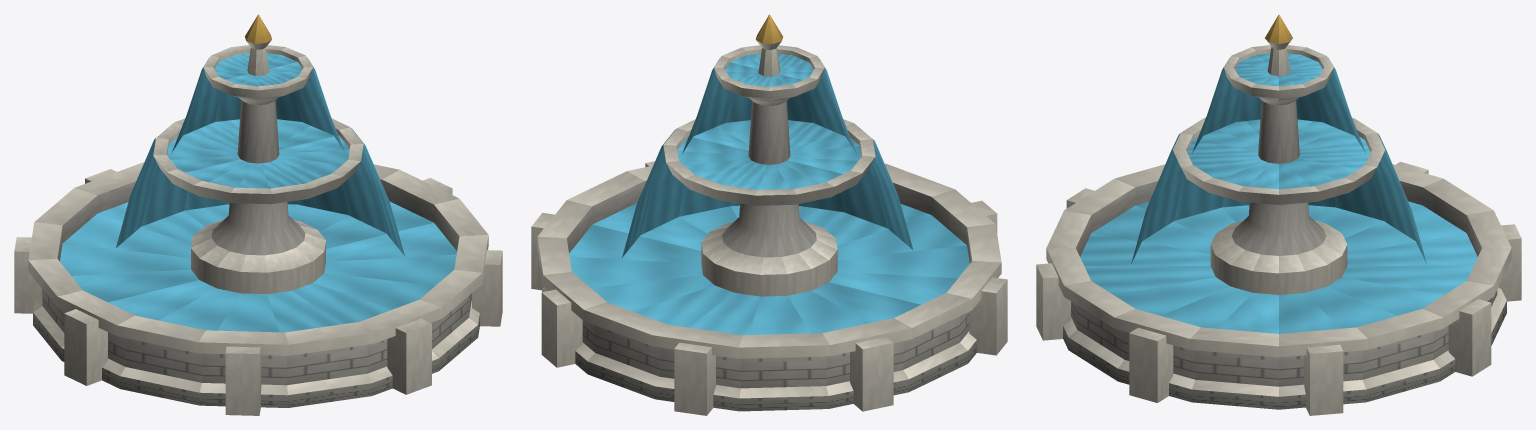
Rendered from prop_fountain_01.glb.
3 views of the same model, side by side, from view 1: azimuth 30°, elevation 25°; view 2: azimuth 150°, elevation 25°; view 3: azimuth 270°, elevation 25° (orthographic).
Parts seen in each view (by area): view 1: prop_fountain_01; view 2: prop_fountain_01; view 3: prop_fountain_01.
Part boxes in pixels (x1=…): prop_fountain_01: x1=14, y1=14, x2=502, y2=415; prop_fountain_01: x1=531, y1=14, x2=1007, y2=415; prop_fountain_01: x1=1036, y1=14, x2=1521, y2=415.
Size of the model in its own units: 5.11 by 3.48 by 5.11.
Materials: 1 (1 with a texture image).
